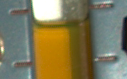border: (90, 54, 121, 65), (7, 8, 33, 17), (90, 2, 115, 11), (11, 61, 36, 69)
liquidlevel: (31, 15, 91, 34)
